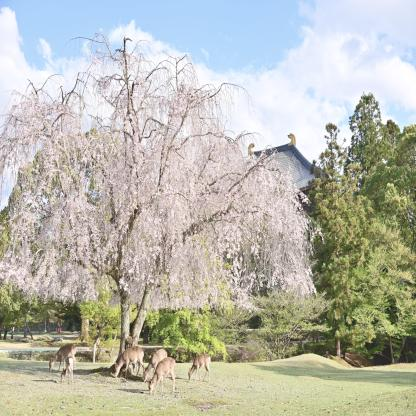ShidareZakura: (0, 28, 325, 315)
